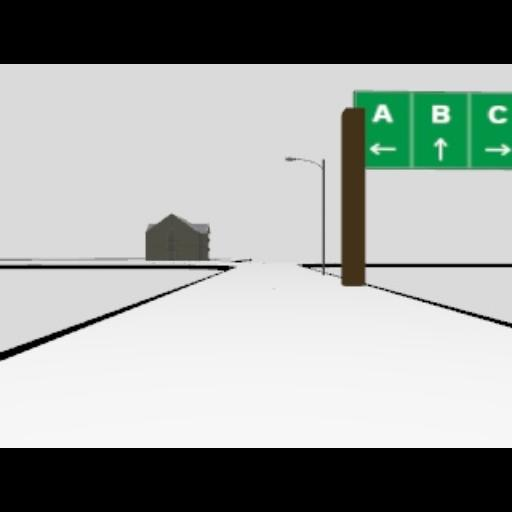A: (372, 102, 392, 124)
B: (430, 104, 450, 124)
C: (486, 104, 508, 124)
Left: (368, 142, 396, 156)
Right: (484, 142, 510, 156)
Straight: (434, 136, 446, 160)
